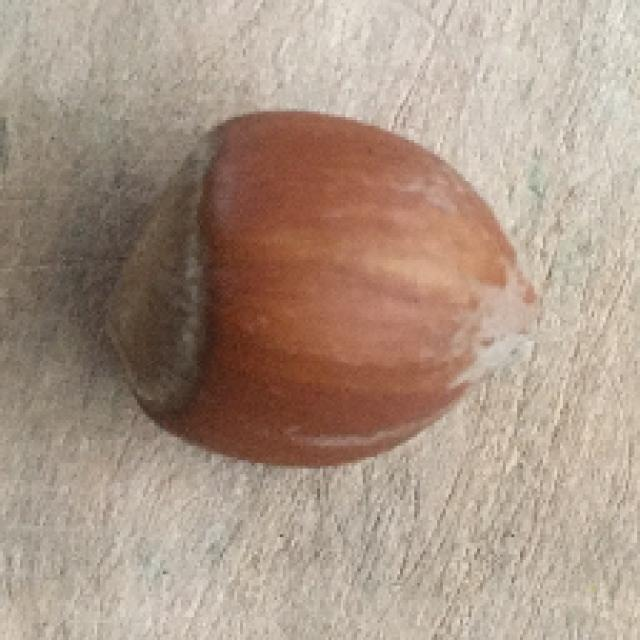qualityHazelnut: (92, 106, 542, 478)
